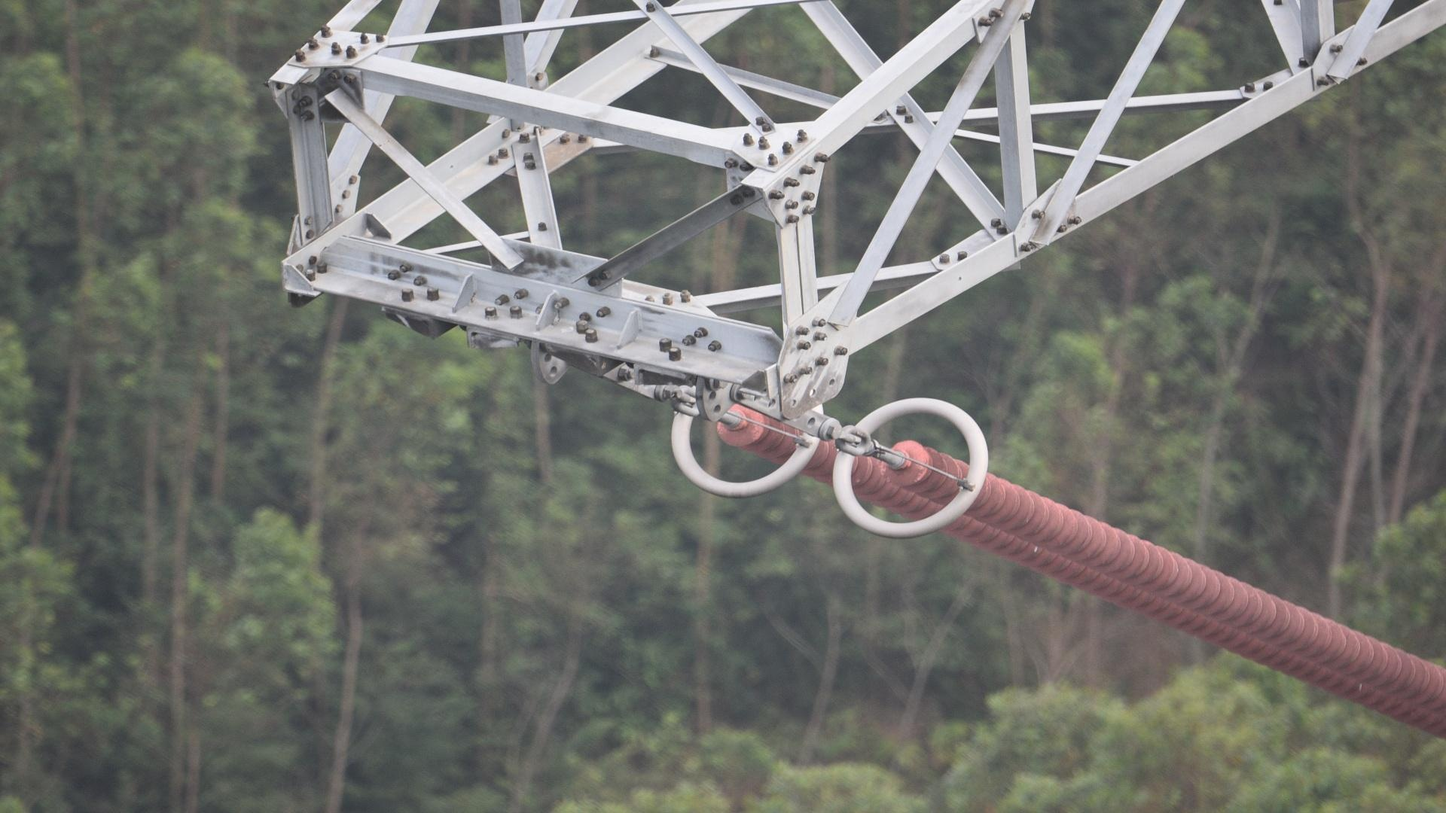insulator: (712, 400, 1446, 747), (880, 436, 1446, 723)
